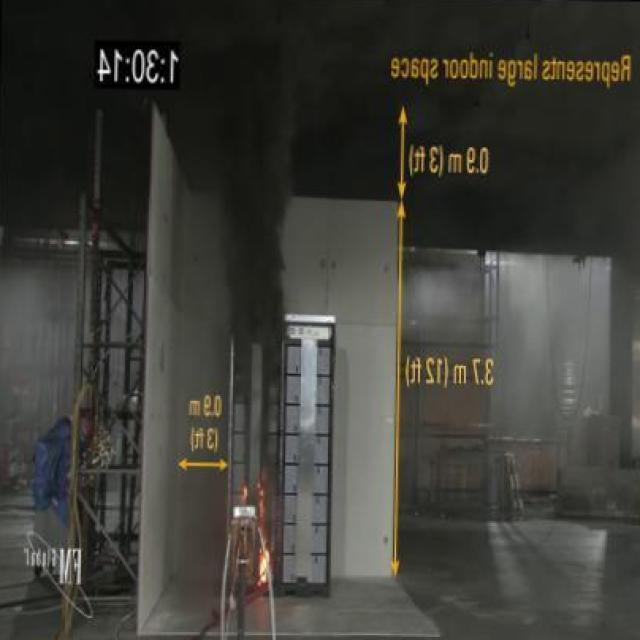fire: (192, 65, 306, 308)
smoke: (250, 475, 276, 594)
